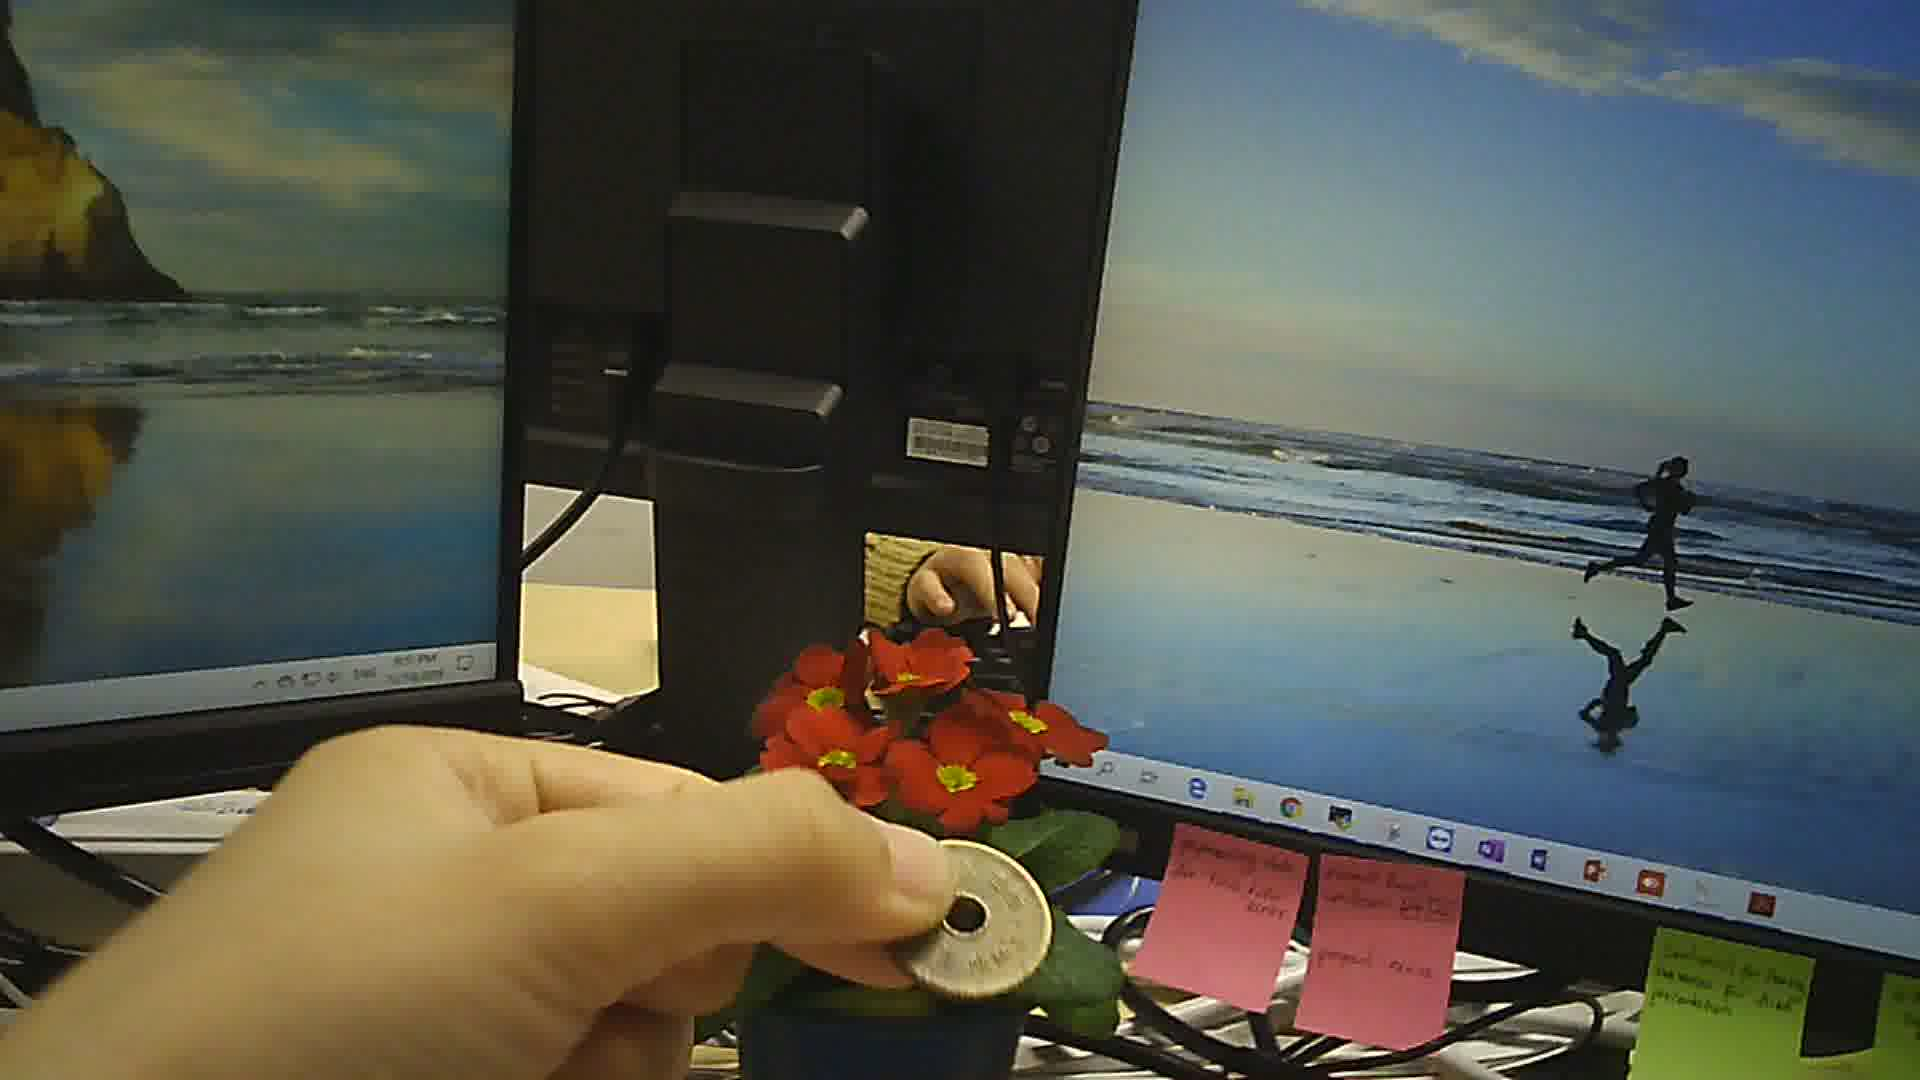5 Yen: (891, 833, 1055, 1002)
